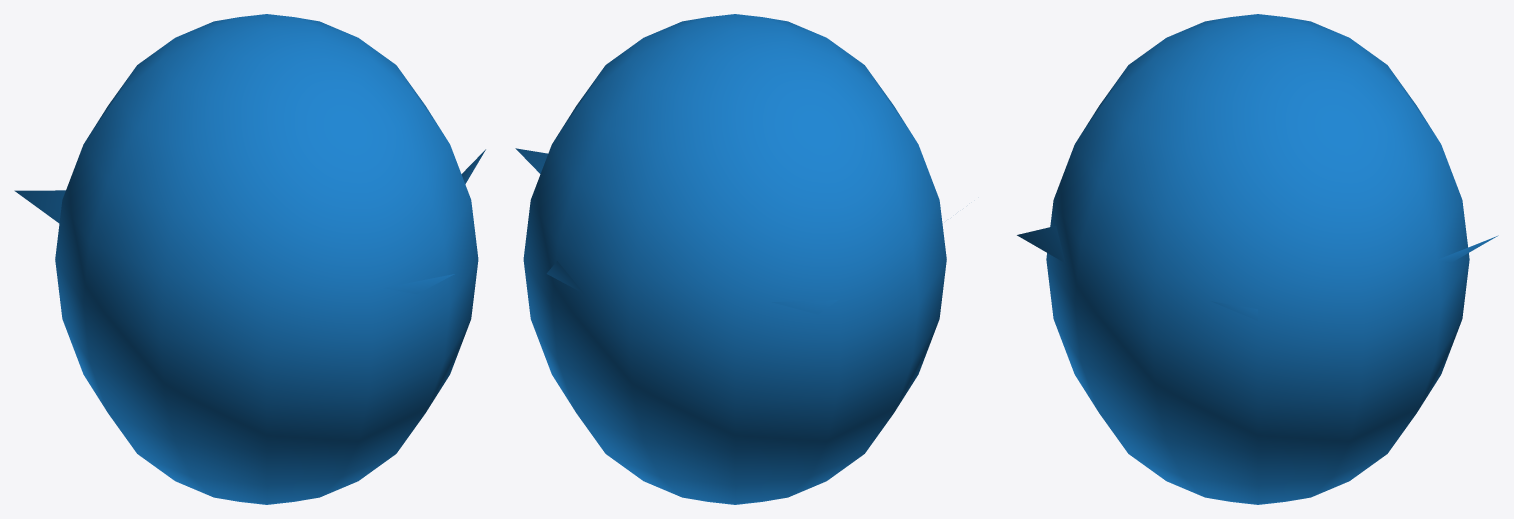
Rendered from Marilisco_stage2.obj.
3 renders of one model, left to right at view 1: azimuth 30°, elevation 25°; view 2: azimuth 150°, elevation 25°; view 3: azimuth 270°, elevation 25°, orthographic.
Bounding box in the file's own units: 2.2 × 2.4 × 2.28.
